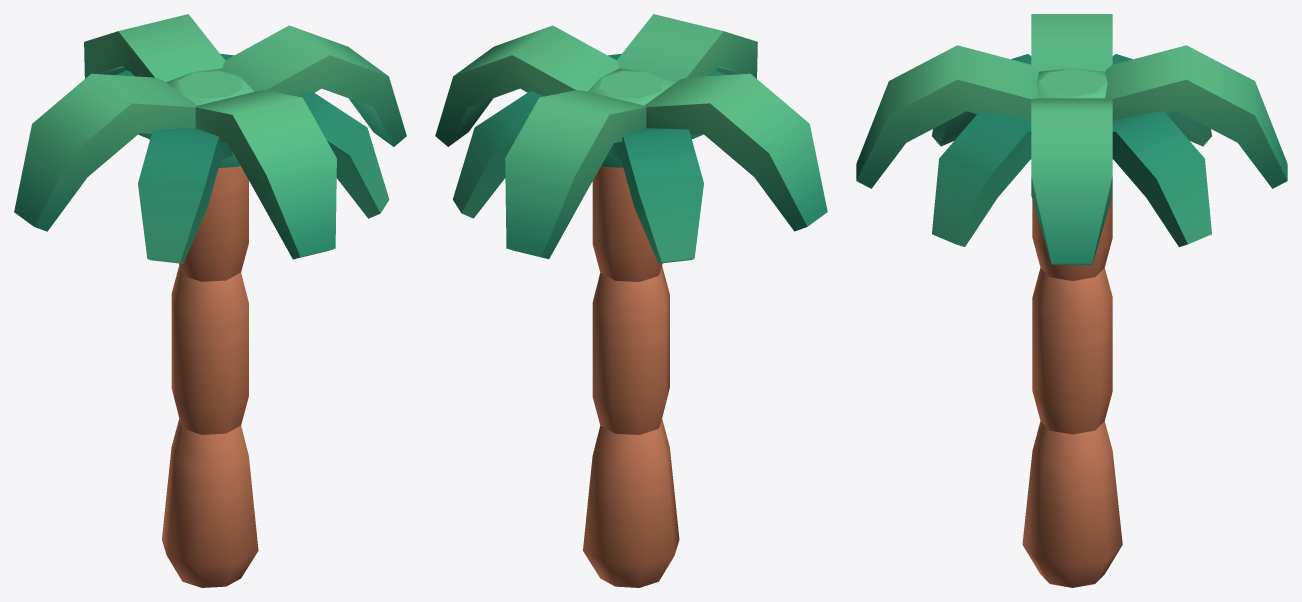
Rendered from kenney-pirate-palm-detailed-straight.glb.
The picture shows the model from 3 angles, left to right: view 1: azimuth 30°, elevation 25°; view 2: azimuth 150°, elevation 25°; view 3: azimuth 270°, elevation 25°; orthographic projection.
Visible parts, largest first — view 1: palm-detailed-straight; view 2: palm-detailed-straight; view 3: palm-detailed-straight.
Boxes of the visible parts, x1,y1,x2,y2 form: palm-detailed-straight: (14, 14, 406, 587); palm-detailed-straight: (435, 14, 827, 587); palm-detailed-straight: (856, 14, 1287, 587).
Size of the model in its own units: 3.22 by 4.21 by 3.22.
Materials: 1 (1 with a texture image).
